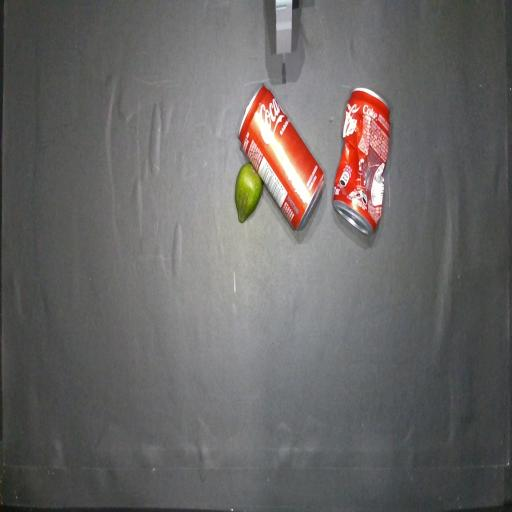higo: (235, 163, 262, 222)
lata: (239, 86, 323, 229)
lata_defectuoso: (333, 88, 390, 234)
